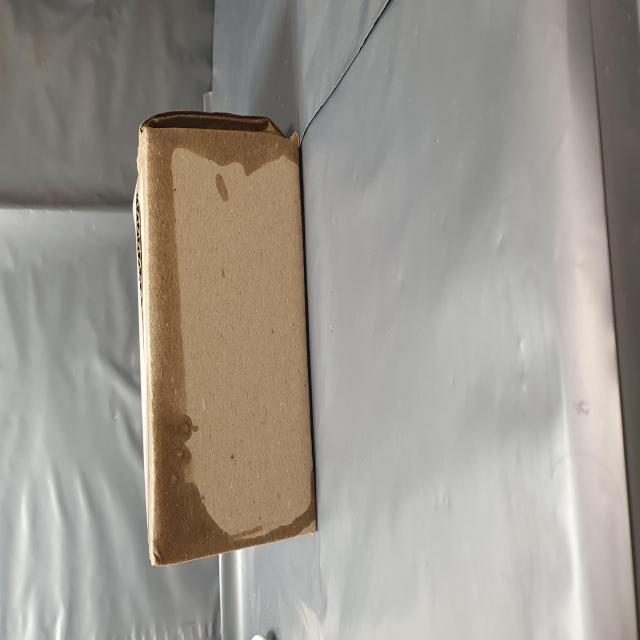wet: (45, 258, 300, 531)
